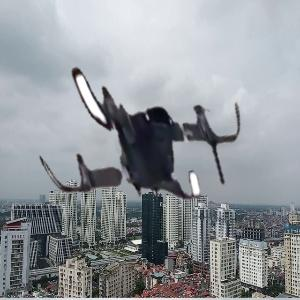drone: (31, 17, 250, 236)
